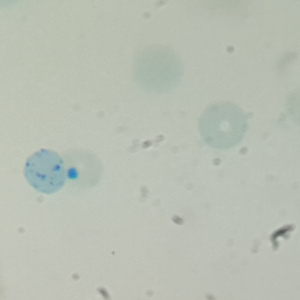aggregate reticulocyte: (22, 147, 67, 196)
erythrocyte: (195, 101, 249, 153), (131, 44, 184, 94), (65, 147, 105, 190)
